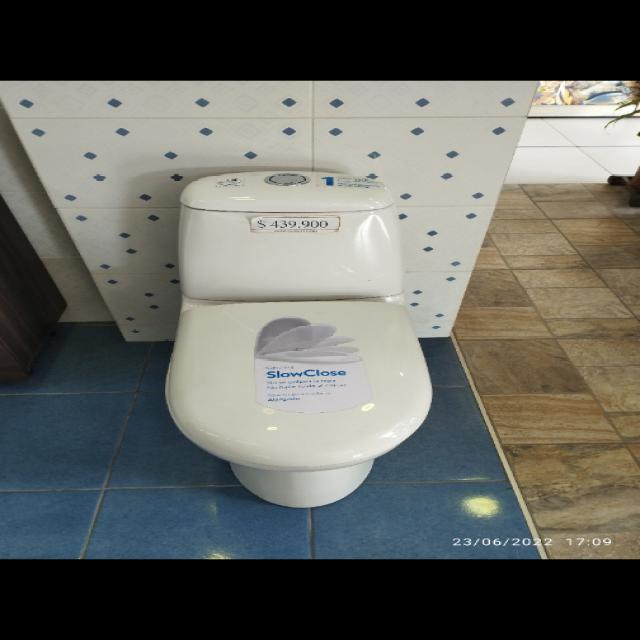toilet: (164, 169, 433, 508)
